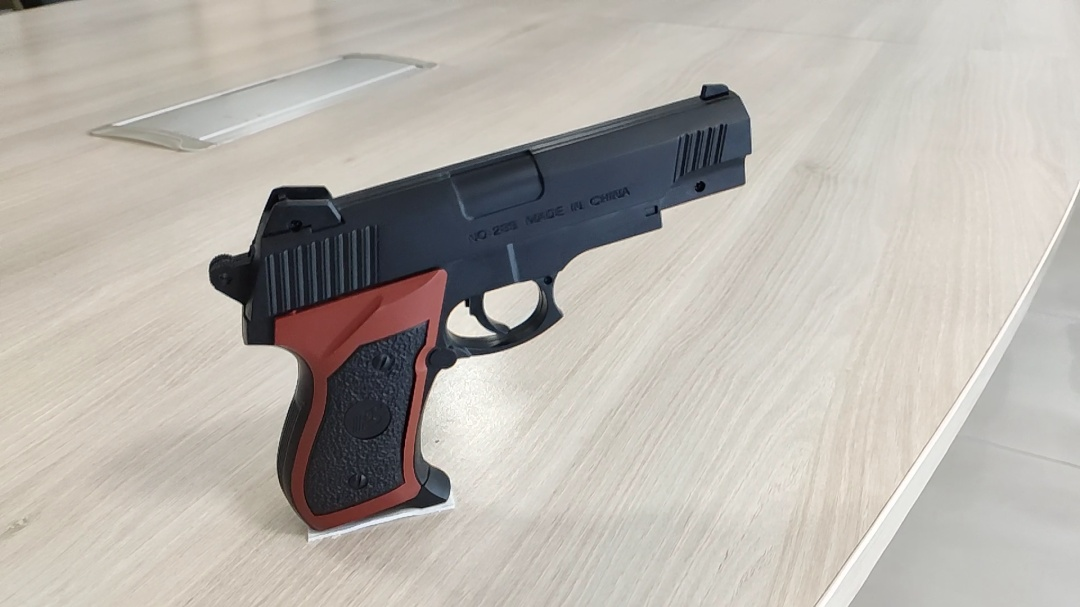gun: (207, 81, 755, 531)
